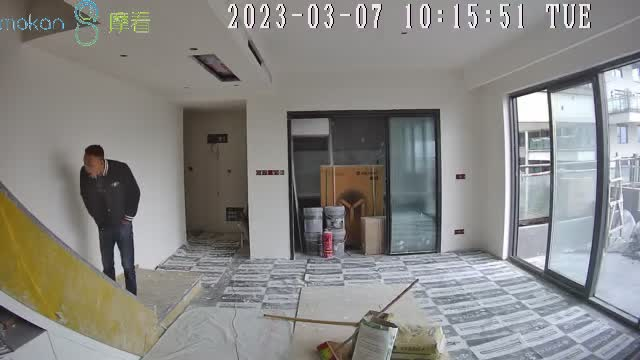people: (79, 145, 141, 298)
window: (504, 54, 640, 319)
